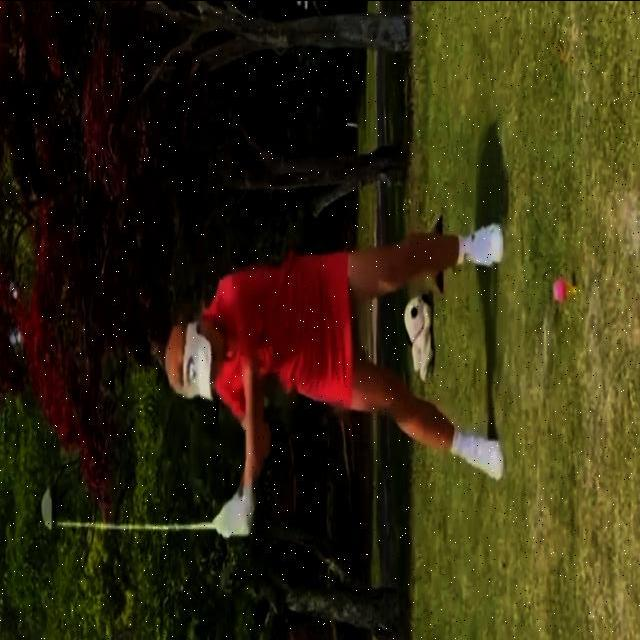golf ball: (551, 278, 565, 299)
golf club-handle: (39, 477, 218, 531)
golf club-head: (42, 481, 58, 532)
